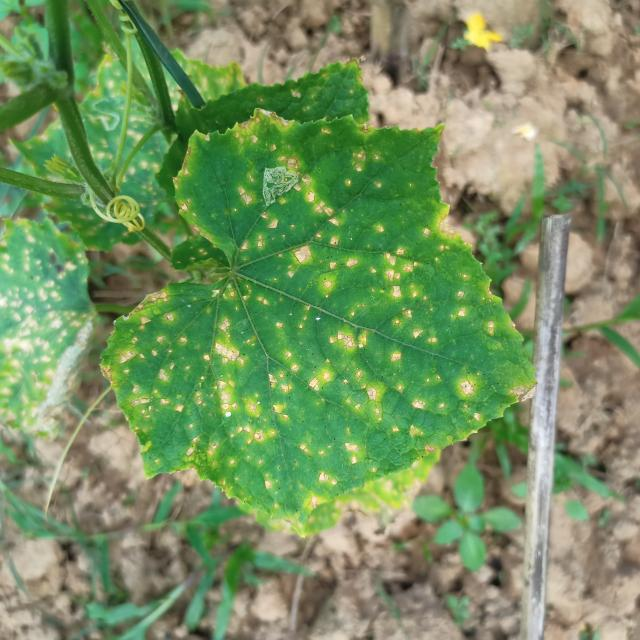disease_cucumber: (111, 118, 510, 506)
